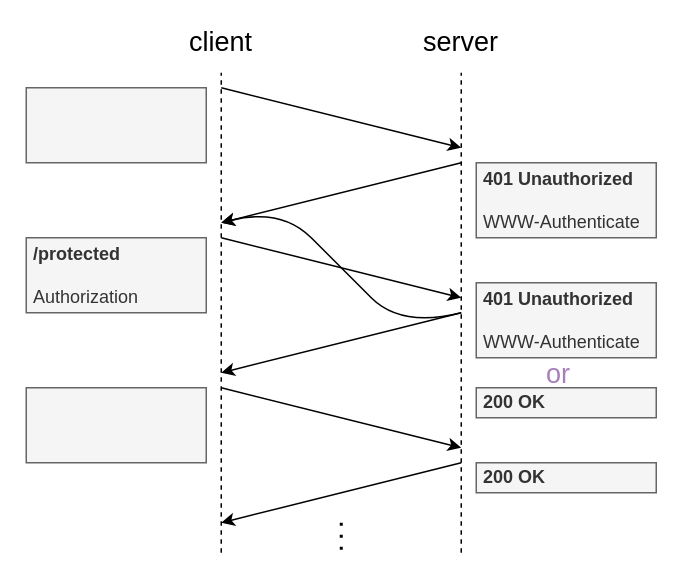
Some shapes in this 683 by 581 pixel diagram are drawn without their labels. Here are the shapes that lost their labels. From the top down, the centre of each, then its label:
At (x=115, y=124): "/protected".
At (x=115, y=424): "/protectedtoo Authorization".
